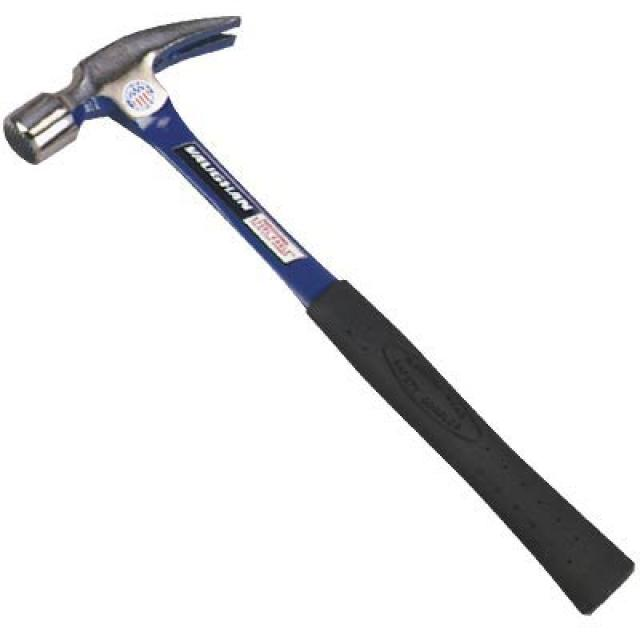hammer: (10, 0, 636, 614)
